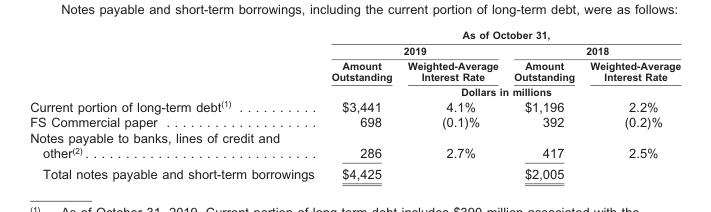table: (29, 28, 680, 180)
table column: (29, 28, 322, 180), (399, 28, 505, 180), (581, 28, 680, 180), (322, 28, 399, 180), (505, 28, 581, 180)
table column header: (29, 28, 680, 97)
table row: (29, 129, 680, 162), (29, 57, 680, 83), (29, 162, 680, 180), (29, 97, 680, 113), (29, 113, 680, 129), (29, 42, 680, 57), (29, 28, 680, 42), (29, 83, 680, 97)
table spanning cell: (322, 28, 680, 42), (322, 83, 680, 97), (322, 42, 505, 57), (505, 42, 680, 57)
